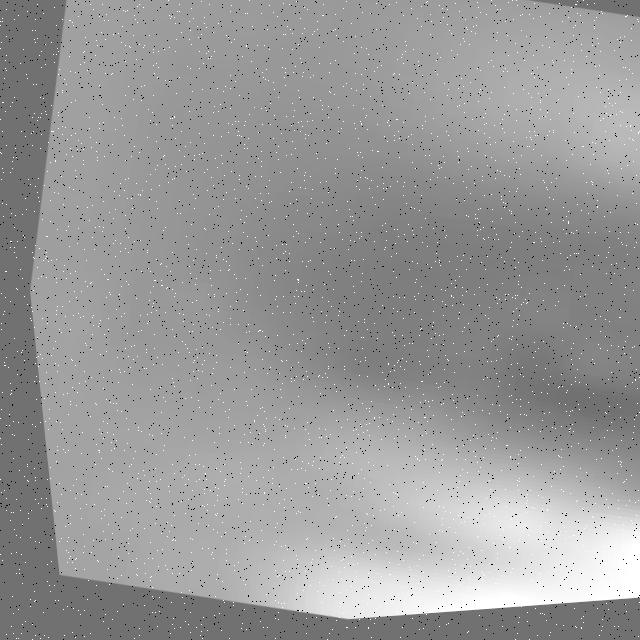person: (192, 412, 640, 632)
